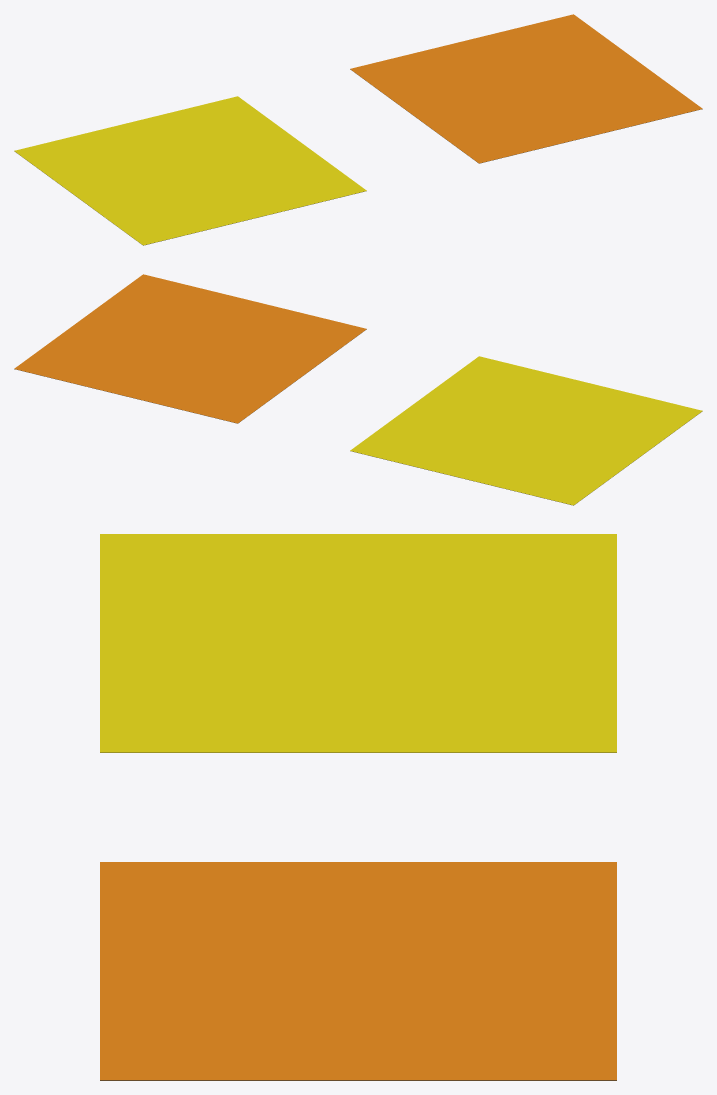
The model's file is mall_layout2.glb.
3 views of the same model, one above another, from view 1: azimuth 30°, elevation 25°; view 2: azimuth 150°, elevation 25°; view 3: azimuth 270°, elevation 25° (orthographic). The views are drawn at different scales.
Parts seen in each view (by area): view 1: mall_storefront_plot, mall_storefront_plot2; view 2: mall_storefront_plot, mall_storefront_plot2; view 3: mall_storefront_plot, mall_storefront_plot2.
Part boxes in pixels (left/top/right/bottom): mall_storefront_plot: left=14, top=96, right=366, bottom=245; mall_storefront_plot2: left=350, top=14, right=702, bottom=163; mall_storefront_plot: left=350, top=356, right=702, bottom=505; mall_storefront_plot2: left=14, top=274, right=366, bottom=423; mall_storefront_plot: left=100, top=534, right=616, bottom=752; mall_storefront_plot2: left=100, top=862, right=616, bottom=1080.
Bounding box in the file's own units: 15 × 0.006 × 6.
